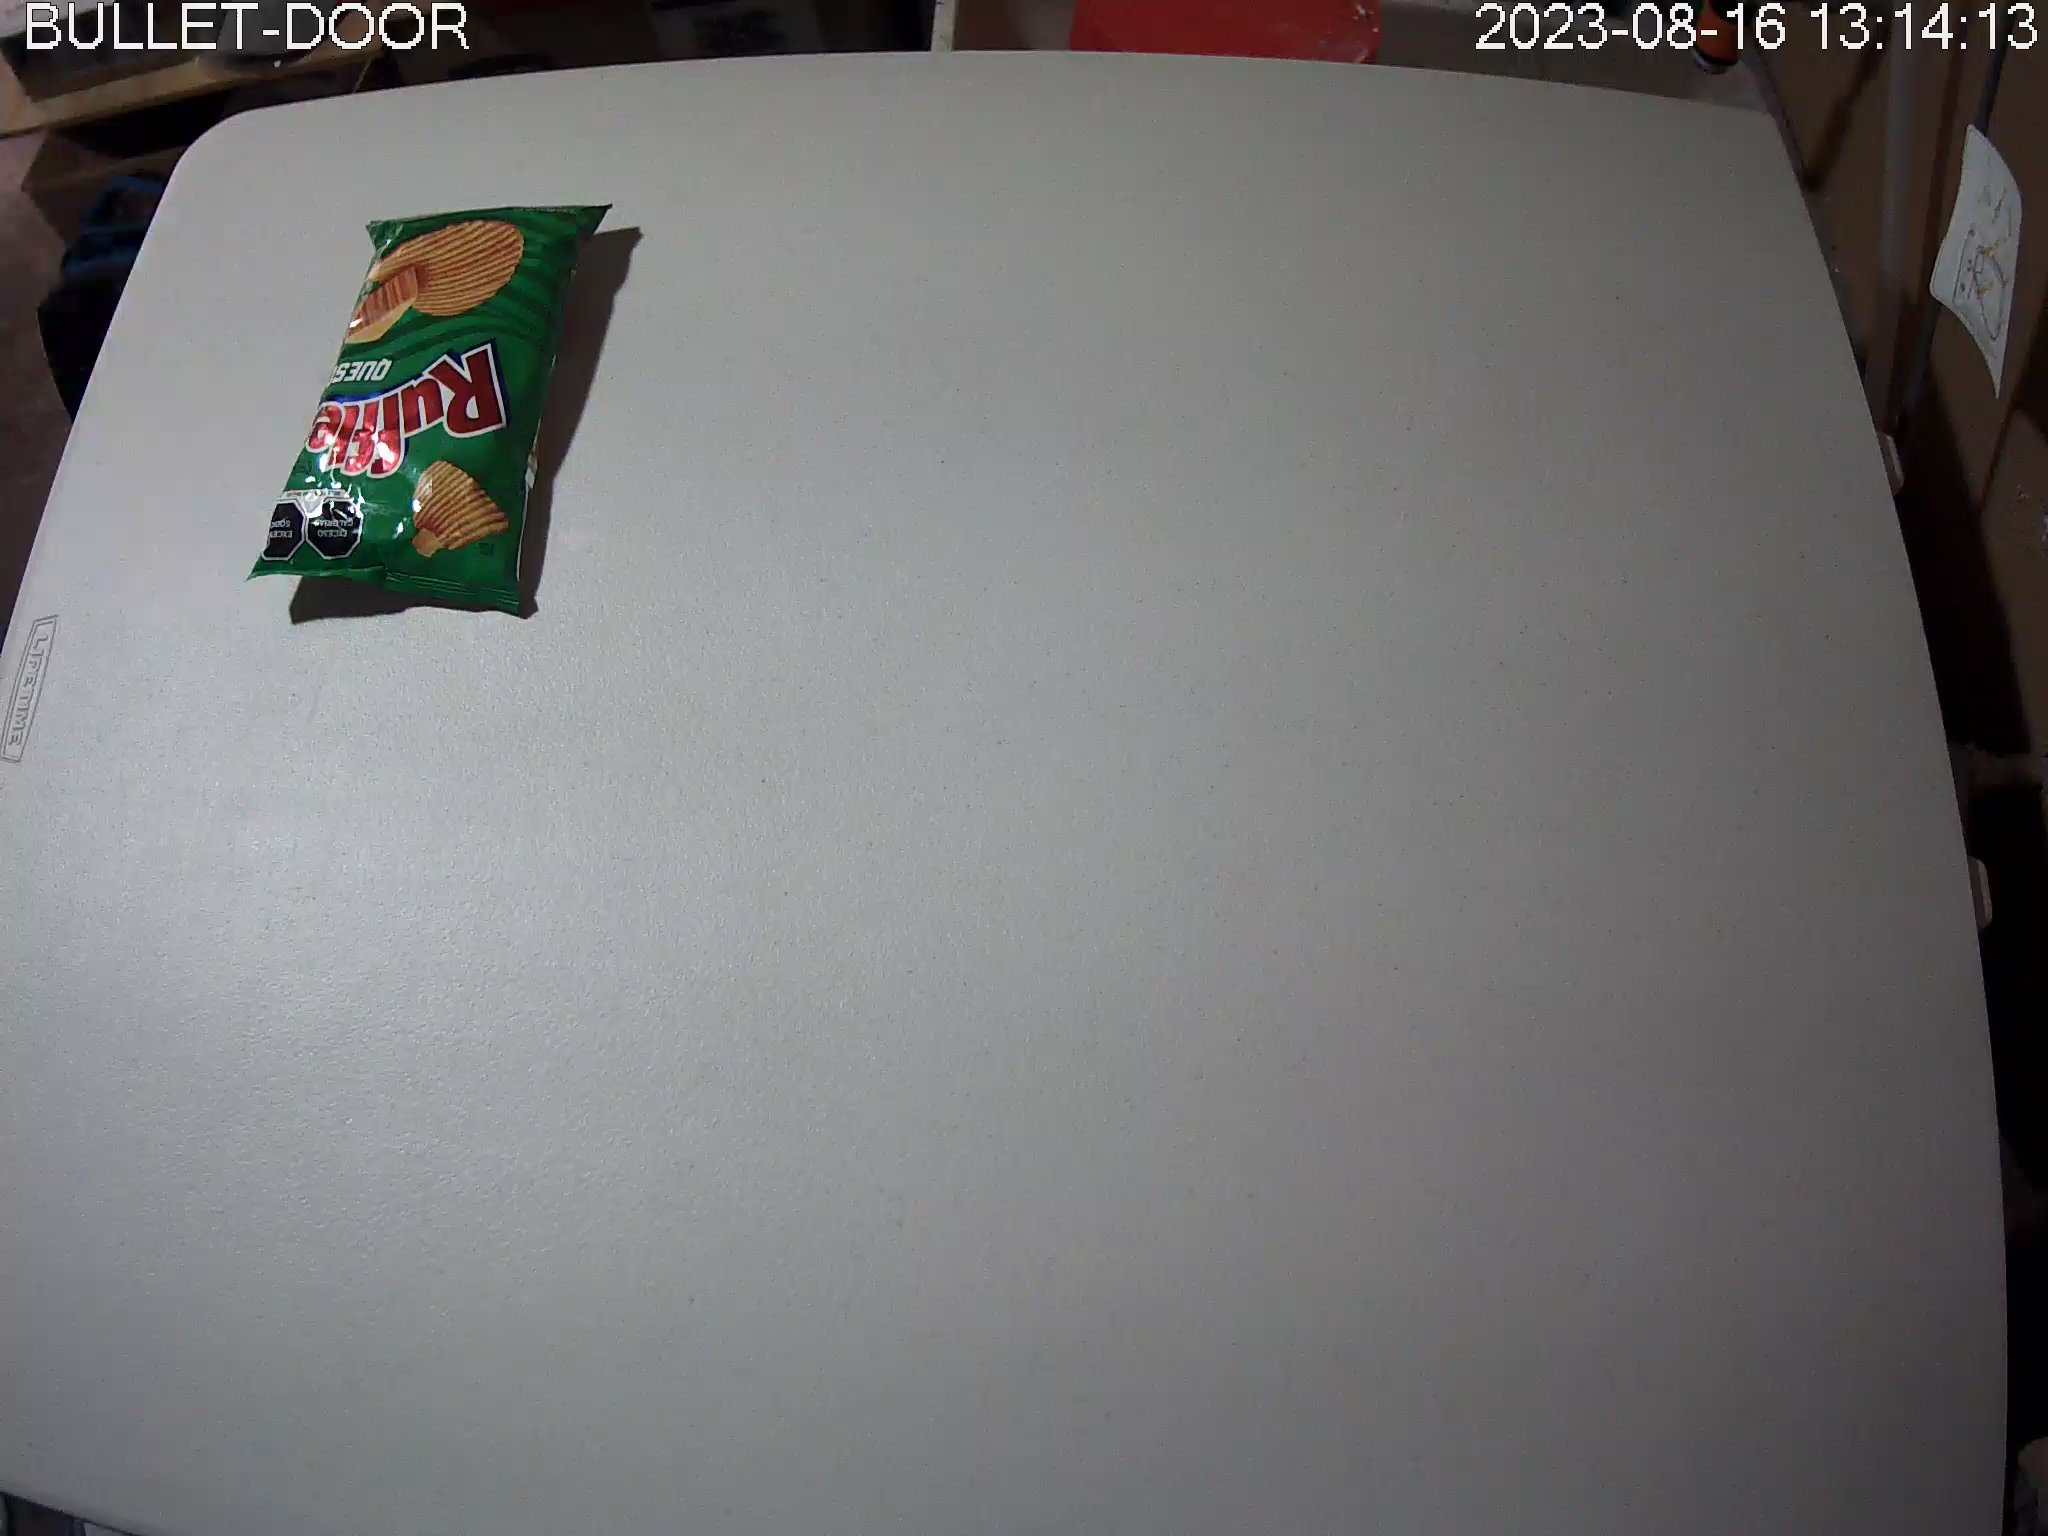RufflesQ_48_F: (247, 202, 614, 618)
